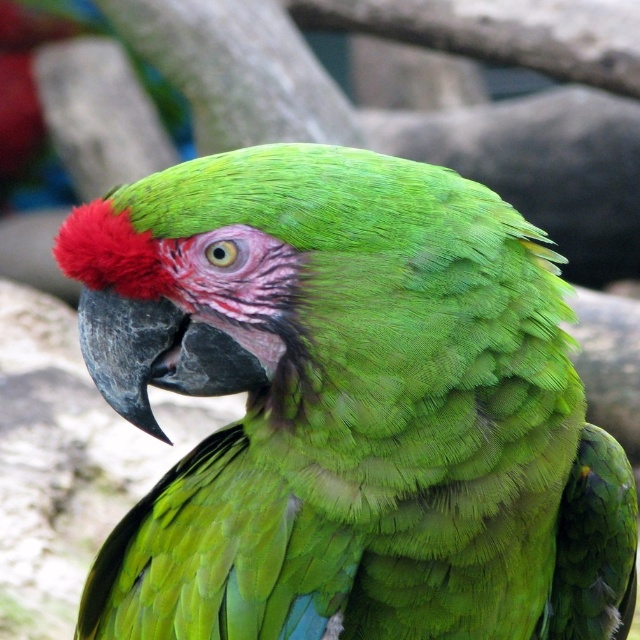Parrot: (52, 139, 640, 640)
